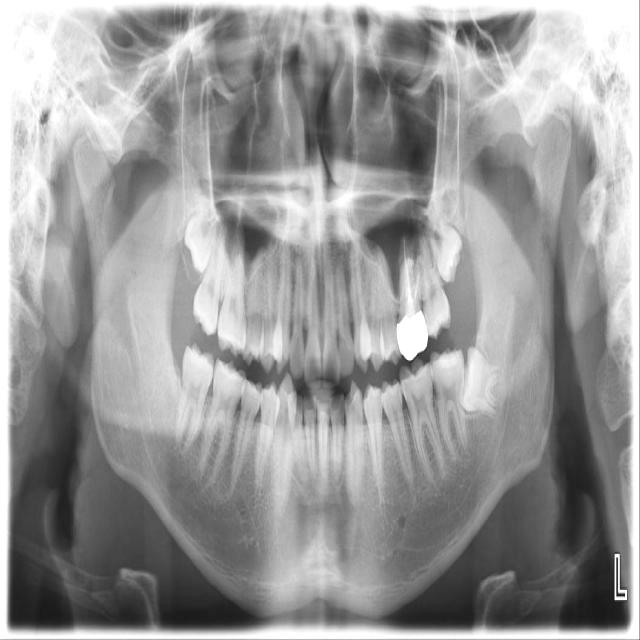Crown: (397, 310, 428, 361)
Filling: (435, 354, 456, 369)
Root Canal Treatment: (402, 238, 415, 315), (413, 265, 418, 303)
impacted tooth: (460, 347, 519, 418), (416, 208, 465, 279)
